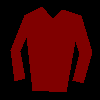abbigliamento_uomo: (10, 6, 92, 92)
